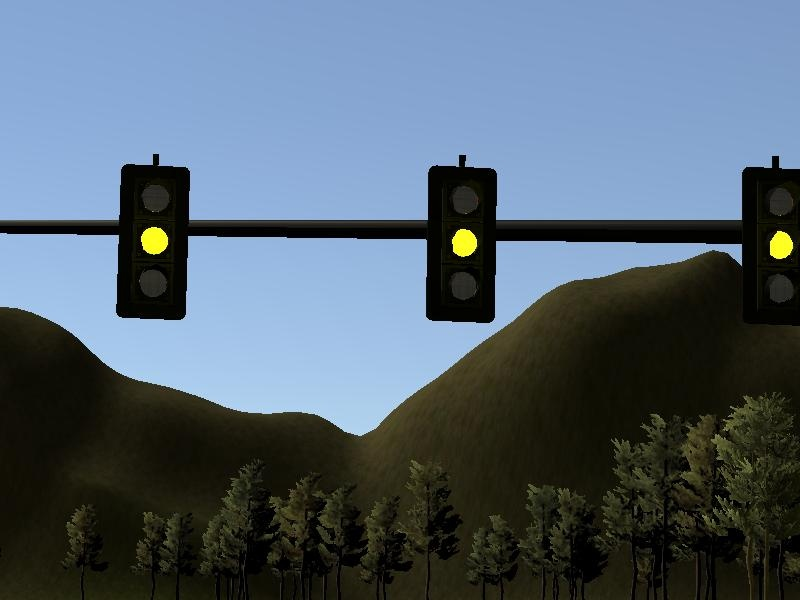yellow: (420, 150, 504, 330), (113, 149, 196, 330), (738, 149, 800, 327)
